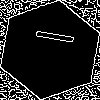I: (25, 25, 75, 47)
